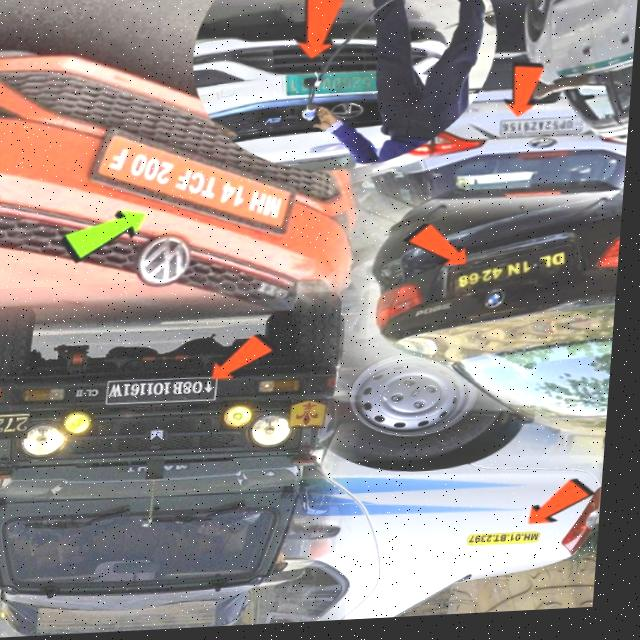plate: (78, 118, 308, 260), (451, 249, 582, 304), (108, 372, 228, 413), (287, 70, 394, 104), (498, 118, 592, 146), (467, 533, 552, 556)
